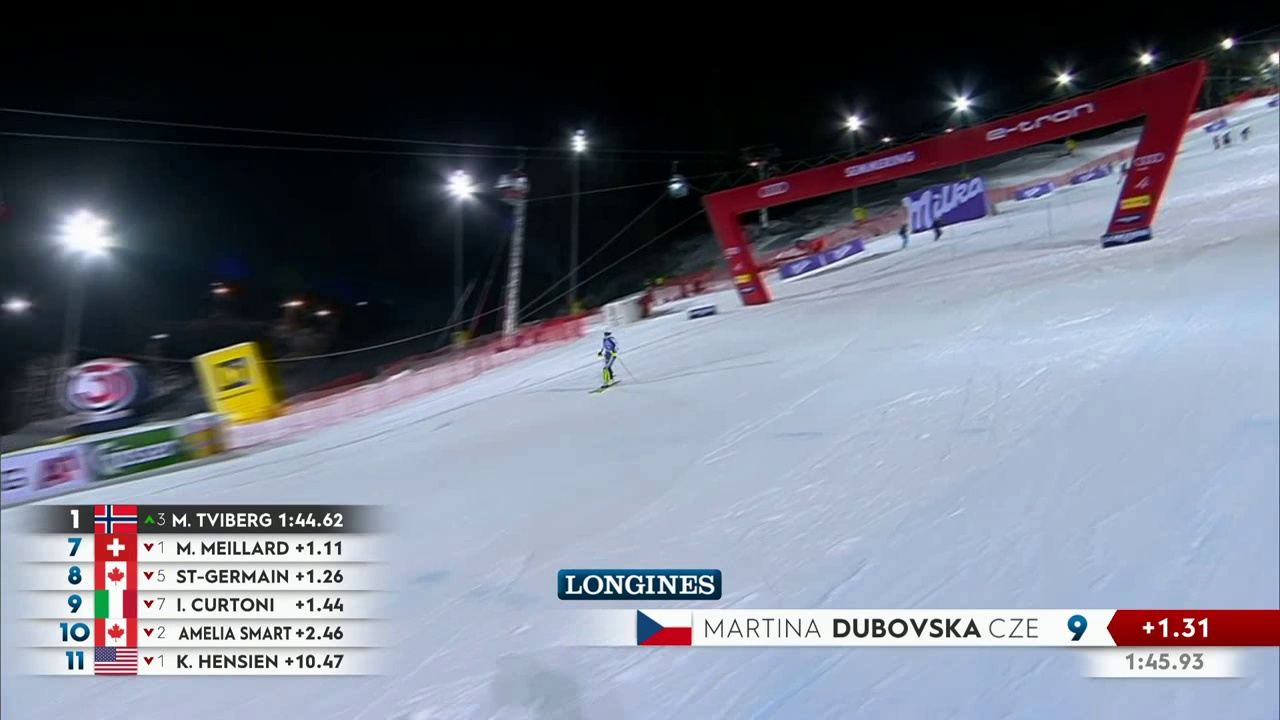longines: (544, 568, 730, 603)
milka: (908, 177, 989, 232)
